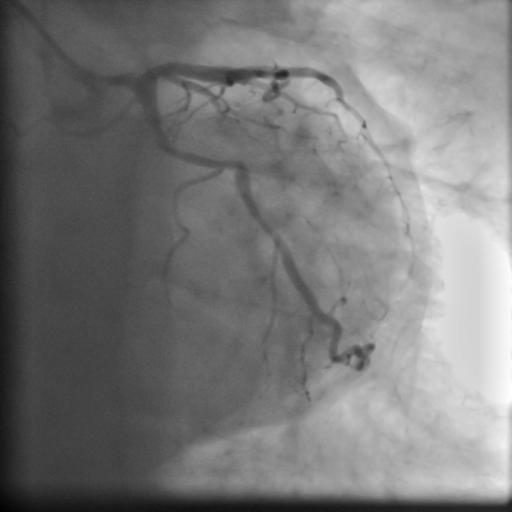Stenosis: (221, 155, 245, 171)
